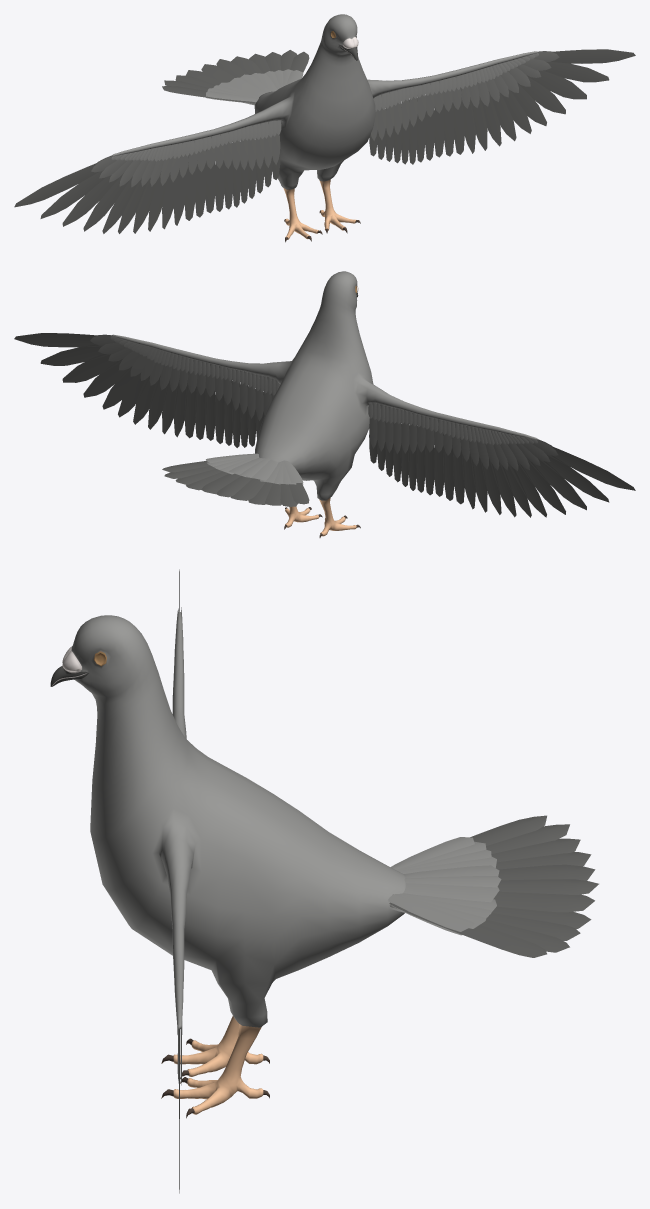
The model's file is pigeon.glb.
3 renders of one model, top to bottom at view 1: azimuth 30°, elevation 25°; view 2: azimuth 150°, elevation 25°; view 3: azimuth 270°, elevation 25°, orthographic. The views are drawn at different scales.
Visible parts, largest first — view 1: Pigeon_WingFeathers_R_Texture_100Animals_SG_0, Pigeon_WingFeathers_L_Texture_100Animals_SG_0, Pigeon_Body_Texture_100Animals_SG_0, Pigeon_TailFeathers_Texture_100Animals_SG_0; view 2: Pigeon_Body_Texture_100Animals_SG_0, Pigeon_WingFeathers_R_Texture_100Animals_SG_0, Pigeon_WingFeathers_L_Texture_100Animals_SG_0, Pigeon_TailFeathers_Texture_100Animals_SG_0; view 3: Pigeon_Body_Texture_100Animals_SG_0, Pigeon_TailFeathers_Texture_100Animals_SG_0.
Boxes of the visible parts, left/top/right/bottom form: Pigeon_WingFeathers_R_Texture_100Animals_SG_0: left=14, top=120, right=281, bottom=233; Pigeon_WingFeathers_L_Texture_100Animals_SG_0: left=369, top=49, right=635, bottom=164; Pigeon_Body_Texture_100Animals_SG_0: left=112, top=14, right=538, bottom=242; Pigeon_TailFeathers_Texture_100Animals_SG_0: left=162, top=50, right=309, bottom=105; Pigeon_Body_Texture_100Animals_SG_0: left=111, top=271, right=538, bottom=537; Pigeon_WingFeathers_R_Texture_100Animals_SG_0: left=368, top=403, right=635, bottom=517; Pigeon_WingFeathers_L_Texture_100Animals_SG_0: left=14, top=333, right=280, bottom=447; Pigeon_TailFeathers_Texture_100Animals_SG_0: left=162, top=453, right=309, bottom=506; Pigeon_Body_Texture_100Animals_SG_0: left=50, top=611, right=405, bottom=1118; Pigeon_TailFeathers_Texture_100Animals_SG_0: left=388, top=815, right=598, bottom=957.
Bounding box in the file's own units: 3.81 × 1.36 × 1.46.
1 material, 1 textured.
